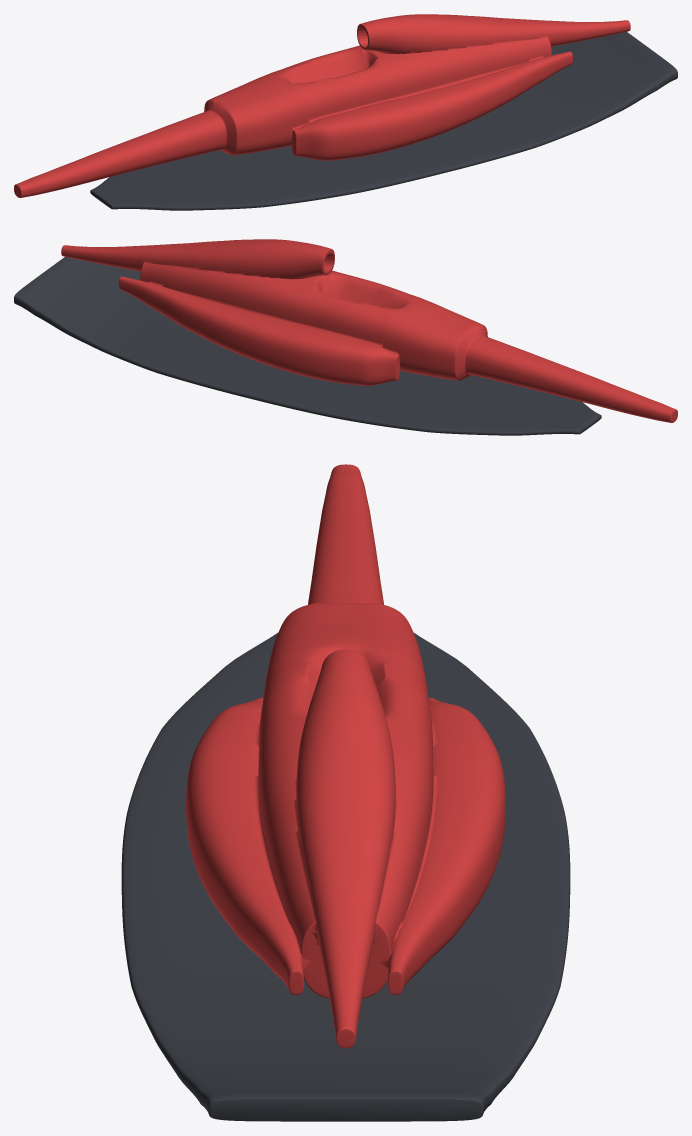
Rendered from car-body.glb.
3 views of the same model, one above another, from view 1: azimuth 30°, elevation 25°; view 2: azimuth 150°, elevation 25°; view 3: azimuth 270°, elevation 25° (orthographic). The views are drawn at different scales.
Visible parts, largest first — view 1: shell, floor; view 2: shell, floor; view 3: shell, floor.
Part boxes in pixels (x1=…): shell: x1=14, y1=14, x2=630, y2=197; floor: x1=90, y1=21, x2=677, y2=210; shell: x1=61, y1=239, x2=677, y2=422; floor: x1=14, y1=246, x2=601, y2=435; shell: x1=186, y1=464, x2=505, y2=1048; floor: x1=121, y1=633, x2=570, y2=1121.
Bounding box in the file's own units: 4.86 × 0.8538 × 1.51.
